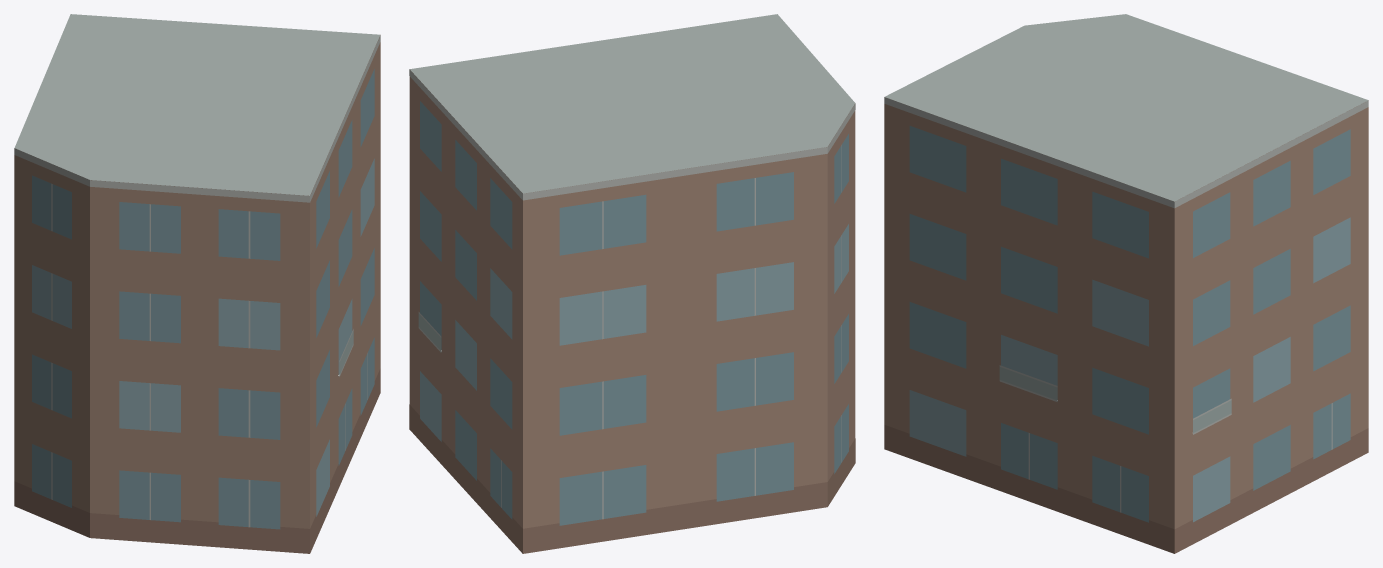
The model's file is survey-upis-32672873.glb.
The picture shows the model from 3 angles, left to right: view 1: azimuth 30°, elevation 25°; view 2: azimuth 150°, elevation 25°; view 3: azimuth 270°, elevation 25°; orthographic projection. The views are drawn at different scales.
Visible parts, largest first — view 1: survey-upis-32672873.tmp; view 2: survey-upis-32672873.tmp; view 3: survey-upis-32672873.tmp.
Boxes of the visible parts, box(x1,y1,x2,y2) form: survey-upis-32672873.tmp: box(14, 14, 380, 553); survey-upis-32672873.tmp: box(409, 14, 855, 553); survey-upis-32672873.tmp: box(884, 14, 1368, 553).
Size of the model in its own units: 14.63 by 12.8 by 15.96.
